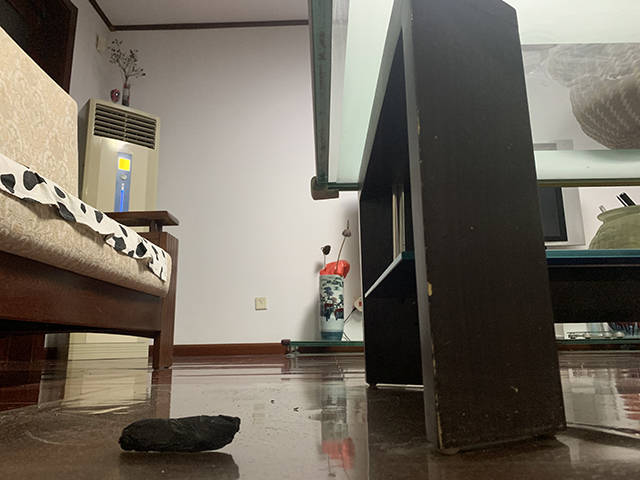feces: (117, 413, 243, 453)
sofa: (1, 23, 182, 371)
table: (309, 1, 639, 455)
